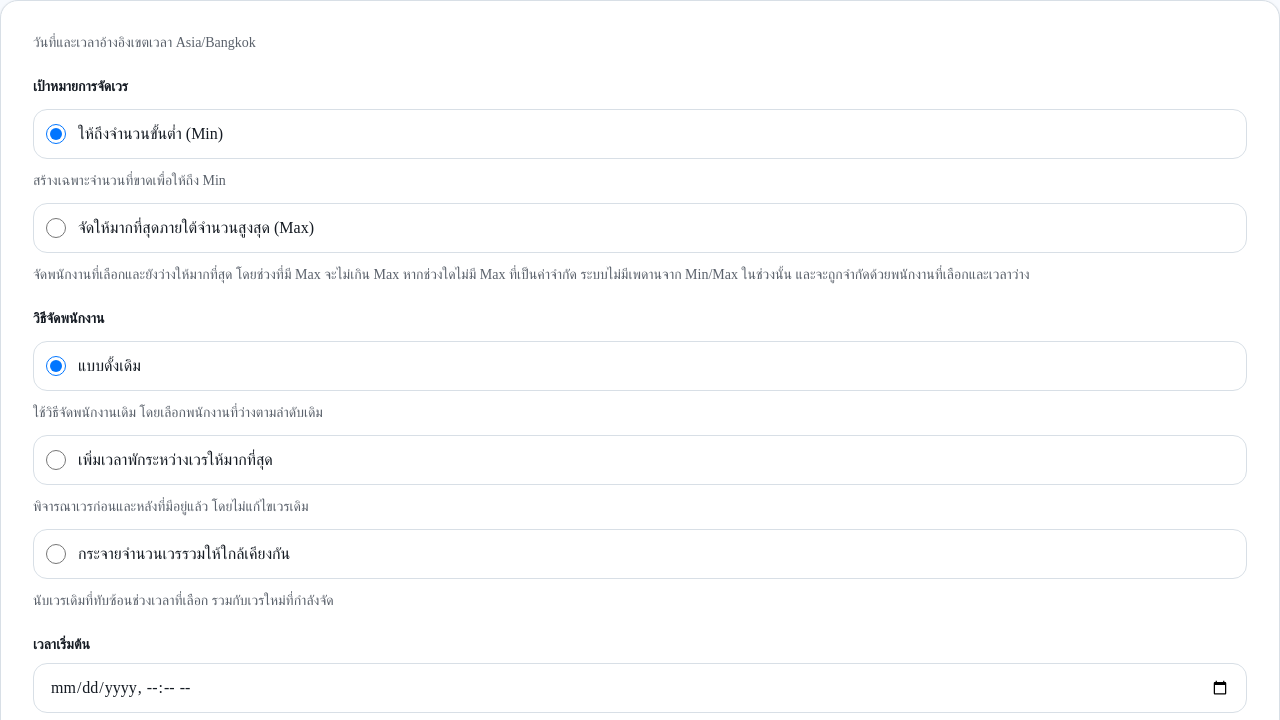
Test: AutoCreateForm › defaults to MINIMUM and allows selecting MAXIMUM
Expected: the radio button labelled "ให้ถึงจำนวนขั้นต่ำ (Min)" is checked, [46,124,66,144]
Click the radio button labelled "จัดให้มากที่สุดภายใต้จำนวนสูงสุด (Max)" at (56, 228), box [46,218,66,238]
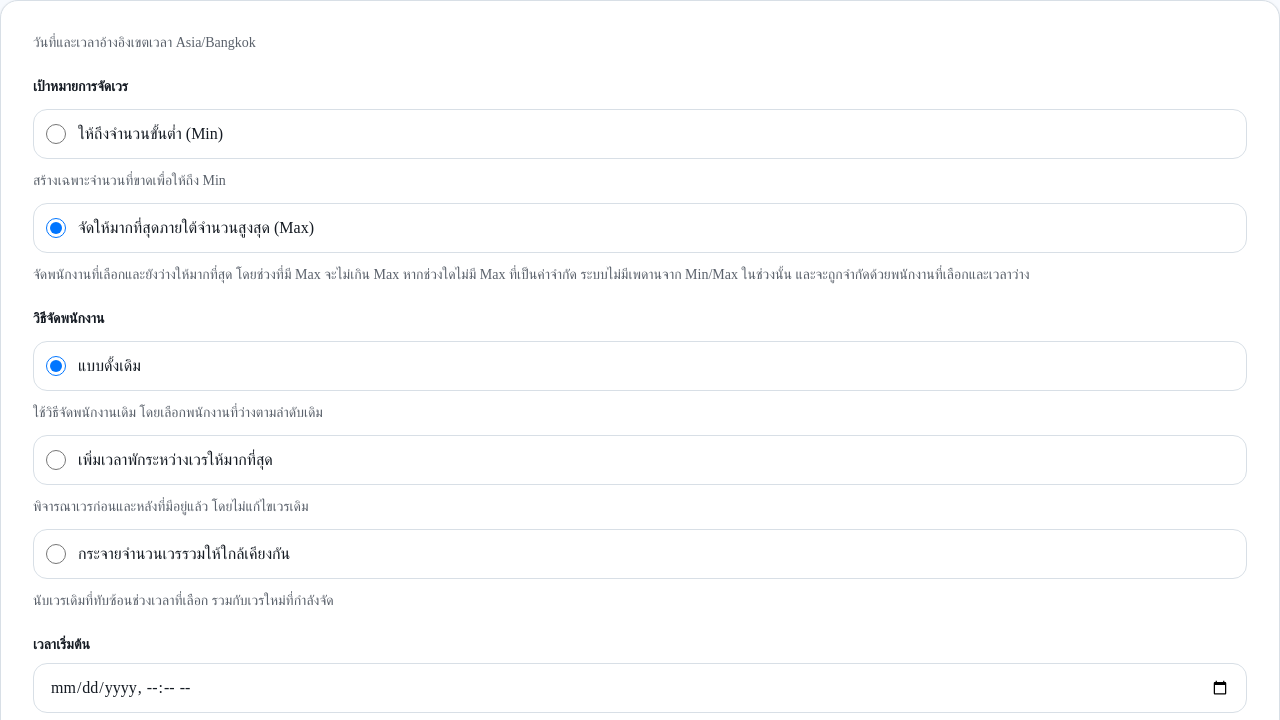
Result: the radio button labelled "จัดให้มากที่สุดภายใต้จำนวนสูงสุด (Max)" is checked at [46,218,66,238]
Result: the radio button labelled "ให้ถึงจำนวนขั้นต่ำ (Min)" is not checked at [46,124,66,144]
